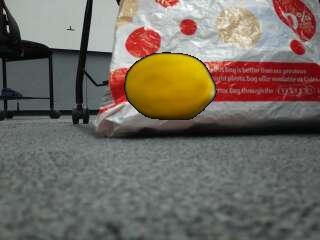lemon: (123, 54, 214, 119)
